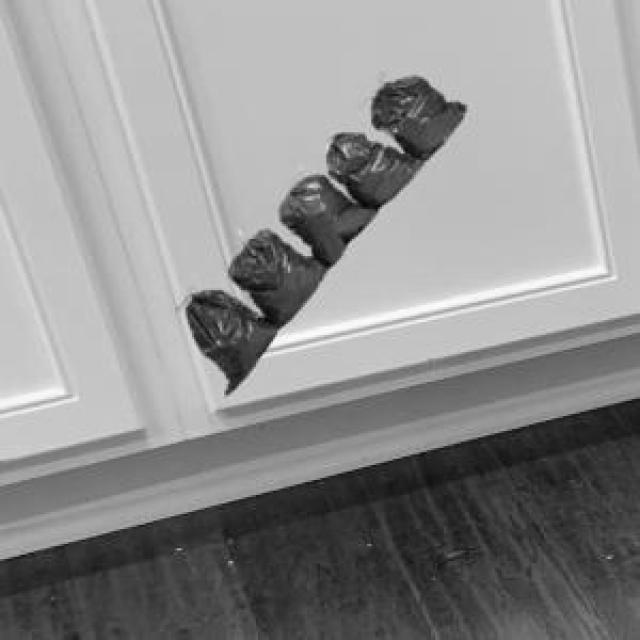miscellaneous trash: (181, 73, 461, 390)
